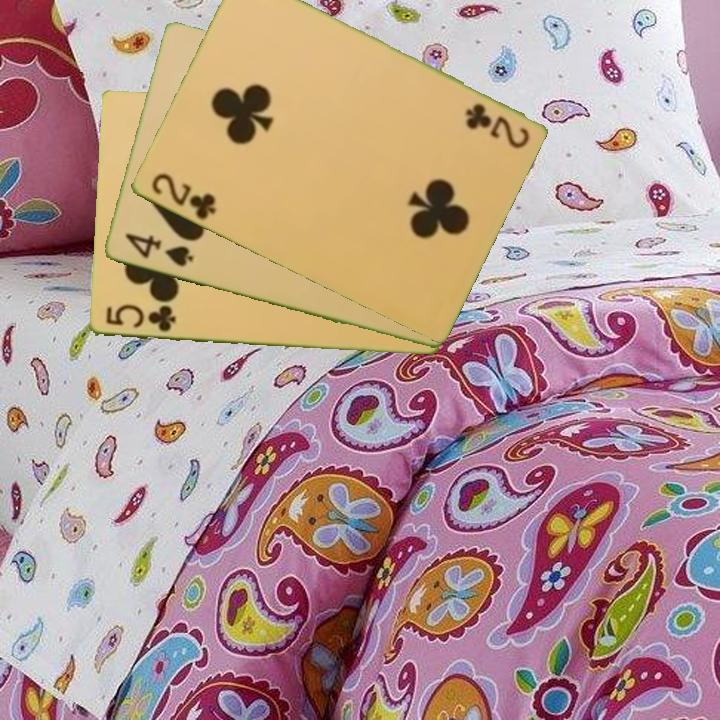2c: (147, 170, 219, 223), (461, 99, 532, 151)
4s: (121, 230, 196, 270)
5c: (102, 301, 178, 335)
